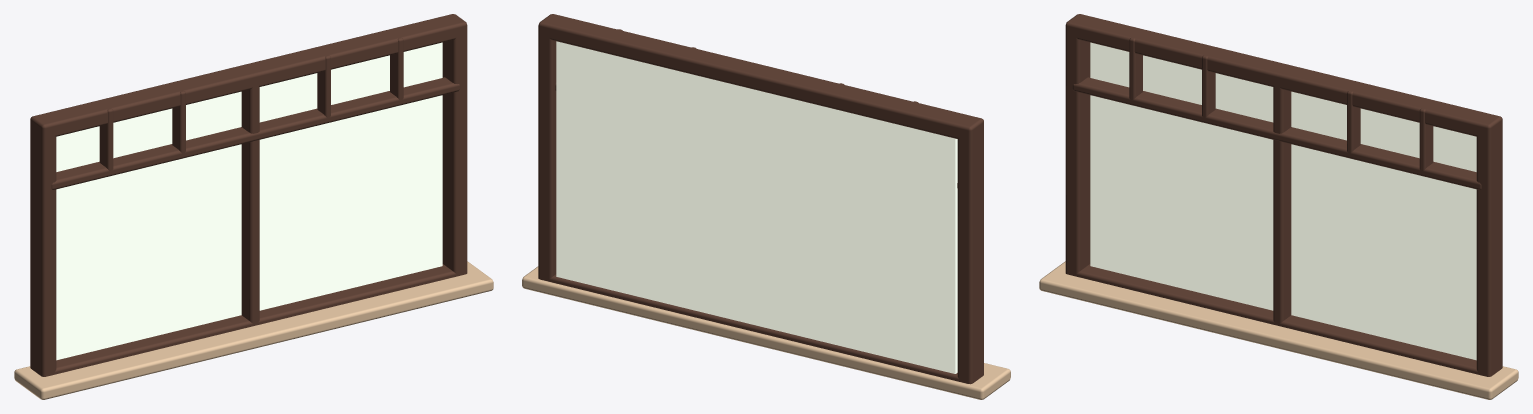
Rendered from suite_window_spa.glb.
3 views of the same model, side by side, from view 1: azimuth 30°, elevation 25°; view 2: azimuth 150°, elevation 25°; view 3: azimuth 330°, elevation 25° (orthographic).
Bounding box in the file's own units: 2.81 × 1.56 × 0.31.
